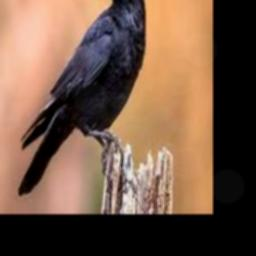Crow: (17, 0, 145, 197)
